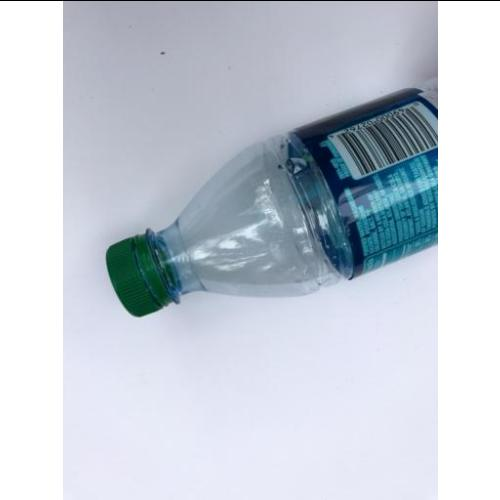plastic: (107, 82, 439, 319)
